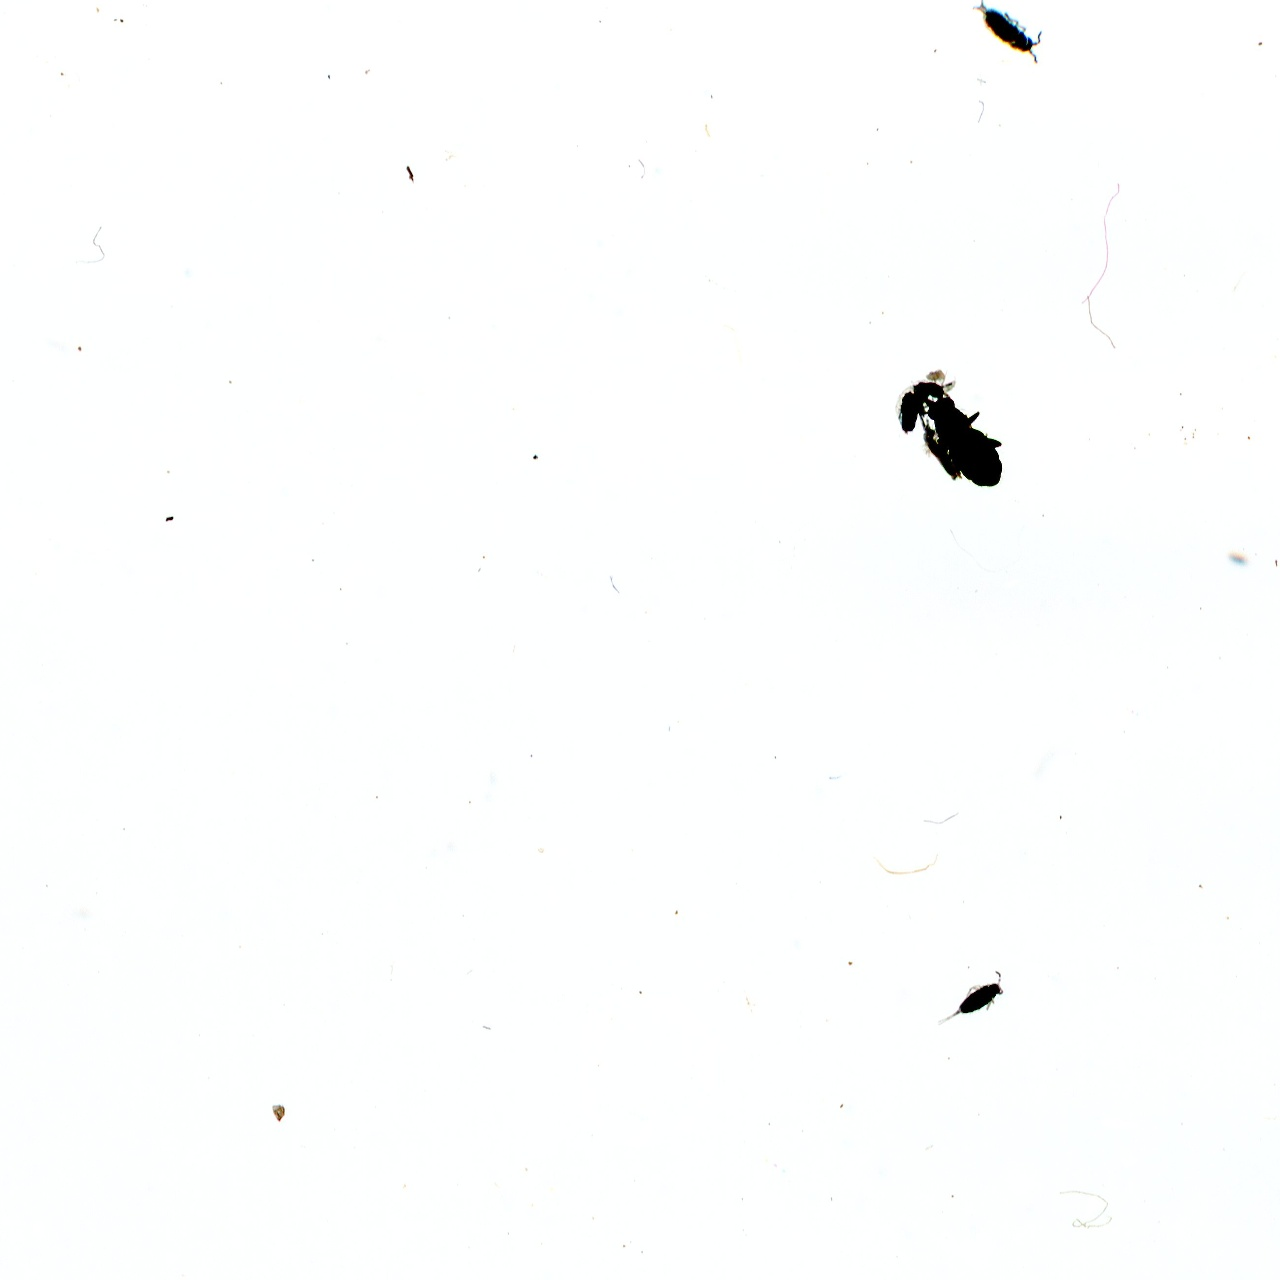arthropod: (958, 0, 1063, 82), (930, 966, 1014, 1030)
